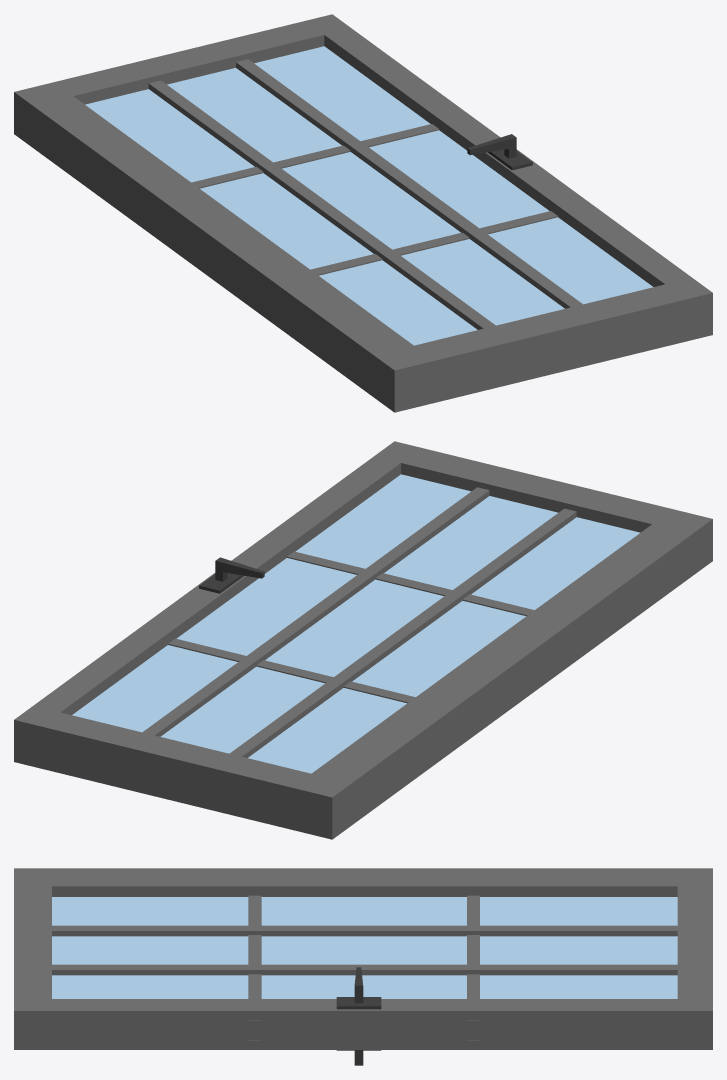
Rendered from door.glb.
3 views of the same model, one above another, from view 1: azimuth 30°, elevation 25°; view 2: azimuth 150°, elevation 25°; view 3: azimuth 270°, elevation 25° (orthographic). The views are drawn at different scales.
Parts seen in each view (by area): view 1: door_011; view 2: door_011; view 3: door_011.
Boxes of the visible parts, left/top/right/bottom form: door_011: left=14, top=14, right=712, bottom=412; door_011: left=14, top=441, right=712, bottom=839; door_011: left=14, top=868, right=712, bottom=1065.
Bounding box in the file's own units: 1.1 × 0.2858 × 2.27.
1 material, 1 textured.
